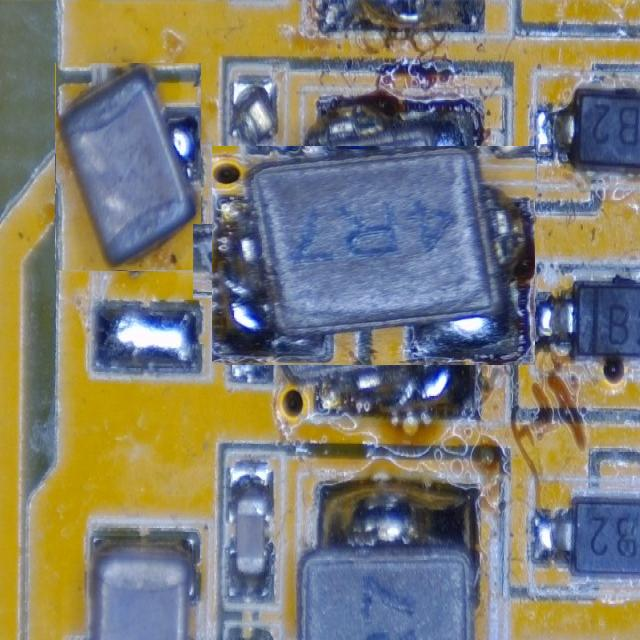Incorrect_installation: (212, 147, 535, 364), (55, 64, 201, 269), (194, 224, 269, 299)
